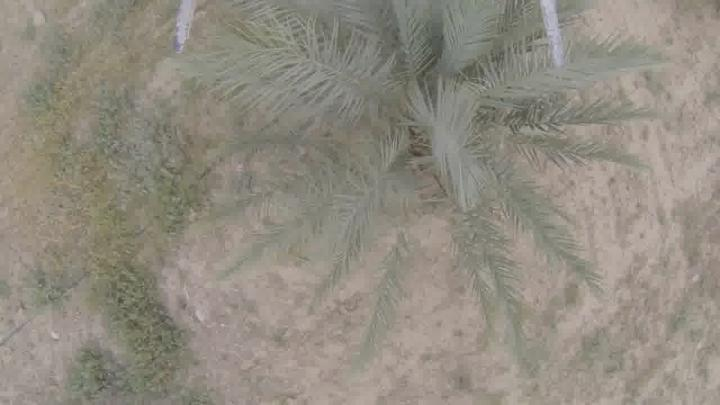Date-Palm-Crown: (302, 5, 576, 215)
